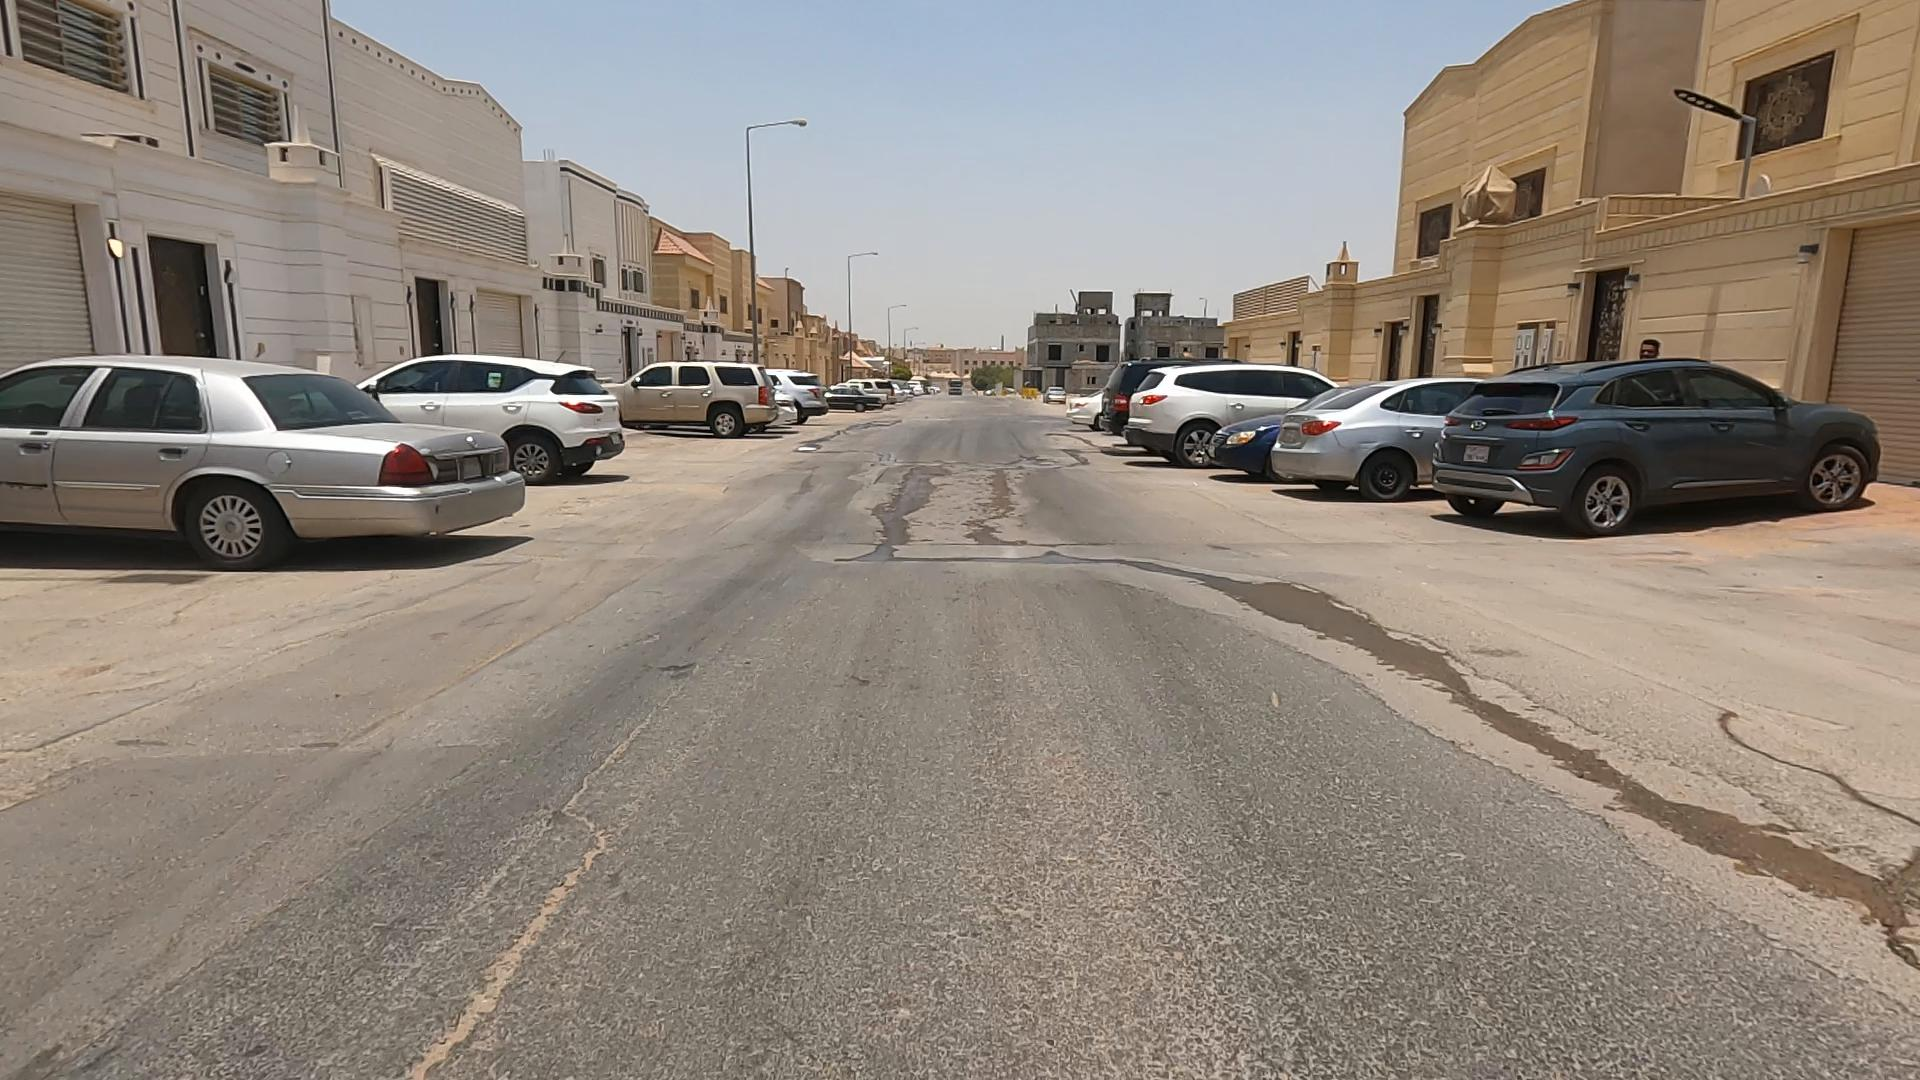POTHOLES: (721, 406, 1145, 634)
